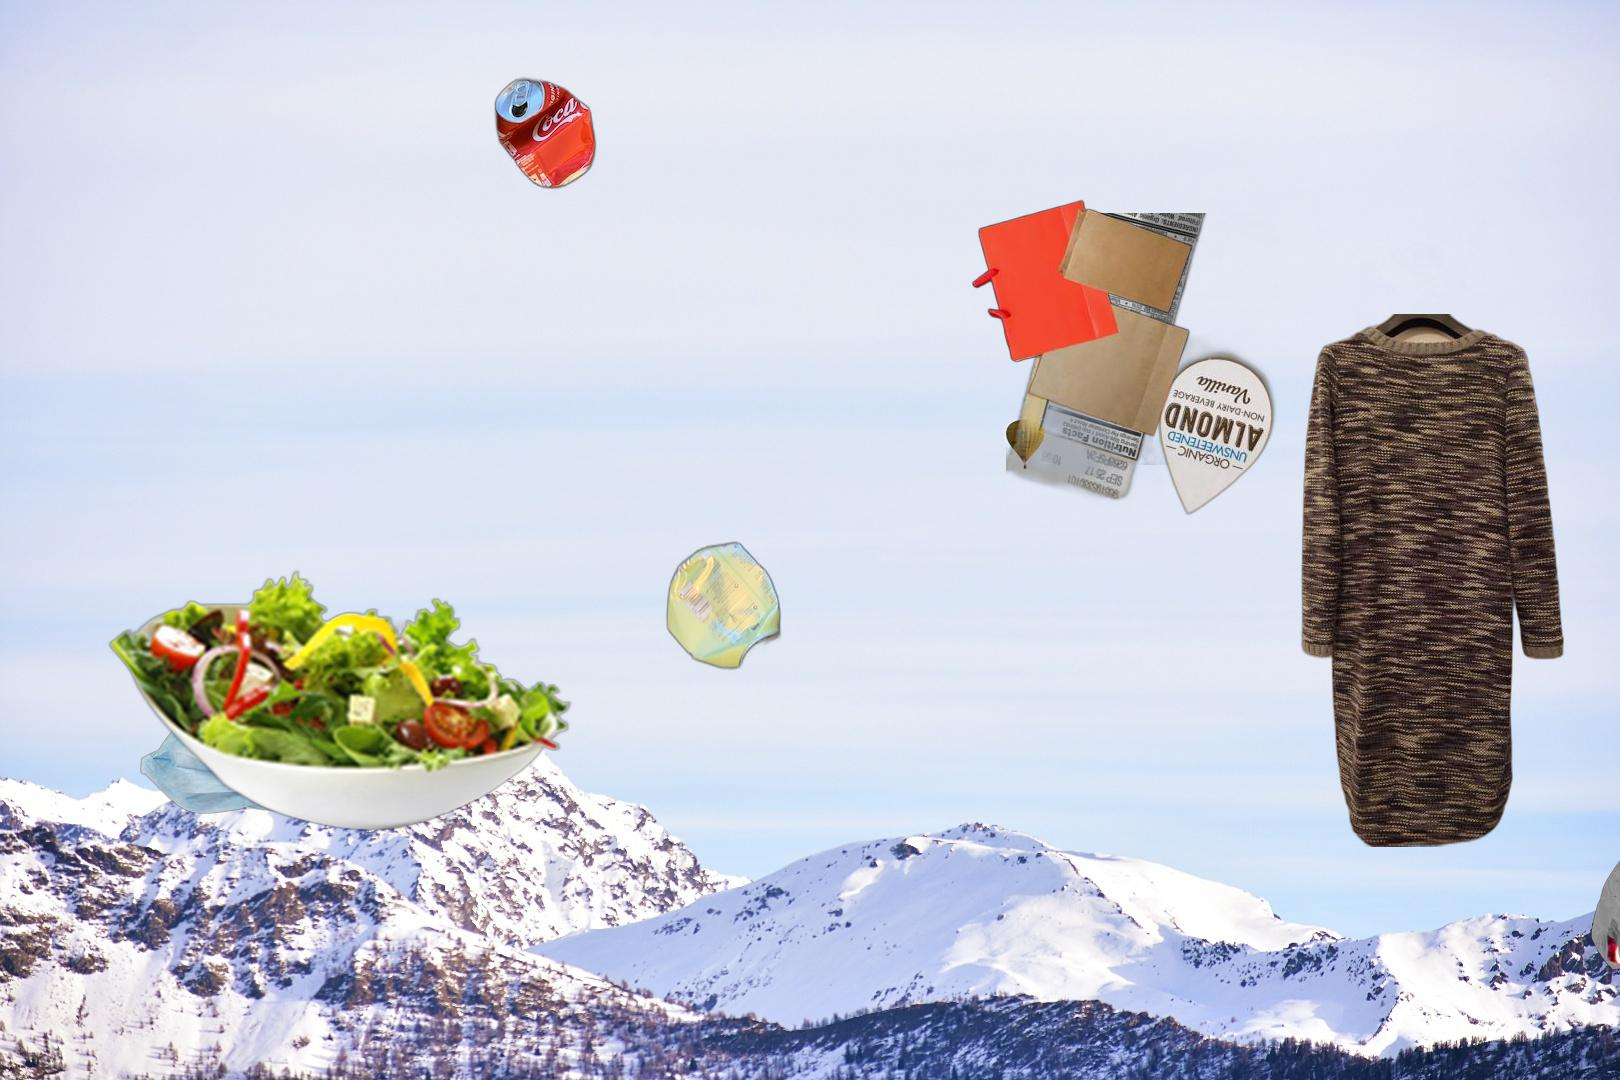biological: (105, 568, 574, 833)
clothes: (1298, 314, 1566, 847)
metal-cans: (177, 73, 600, 581), (662, 537, 785, 674)
paper-bag: (969, 198, 1195, 465)
plastic-bag: (1588, 840, 1620, 1015)
trash: (138, 709, 318, 825)
trashbox-cardboard: (1006, 213, 1491, 519)
